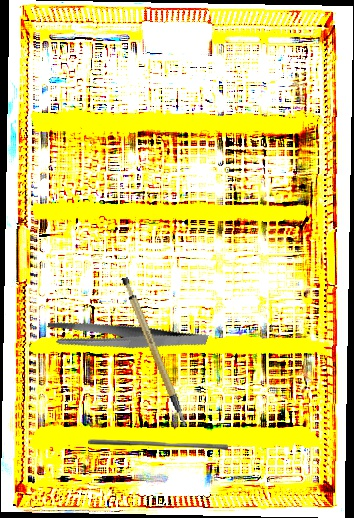Dressing Forceps: (43, 286, 209, 388)
Pusher: (88, 439, 228, 450)
Scalpel Handle: (119, 271, 188, 434)
